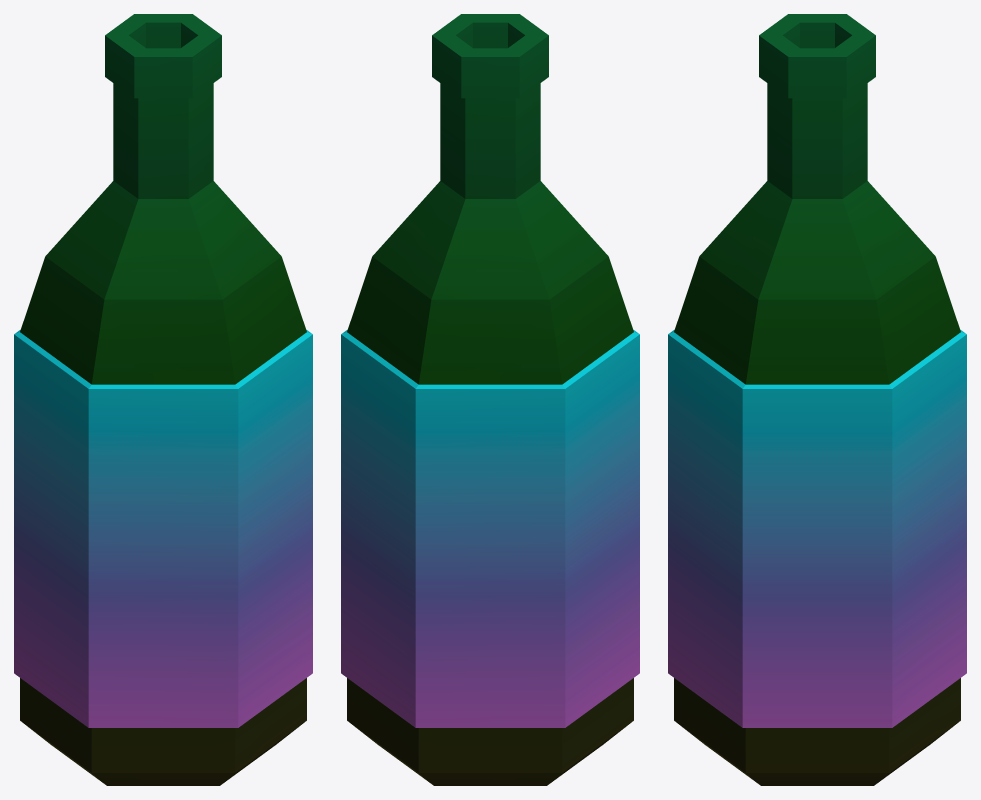
The model's file is Bottle_02.glb.
3 renders of one model, left to right at view 1: azimuth 30°, elevation 25°; view 2: azimuth 150°, elevation 25°; view 3: azimuth 270°, elevation 25°, orthographic.
Visible parts, largest first — view 1: Bottle_02.001; view 2: Bottle_02.001; view 3: Bottle_02.001.
Boxes of the visible parts, box(x1,y1,x2,y2) form: Bottle_02.001: box(14, 14, 312, 785); Bottle_02.001: box(341, 14, 639, 785); Bottle_02.001: box(668, 14, 966, 785).
Size of the model in its own units: 0.3204 by 0.9686 by 0.37.
Materials: 1 (1 with a texture image).
